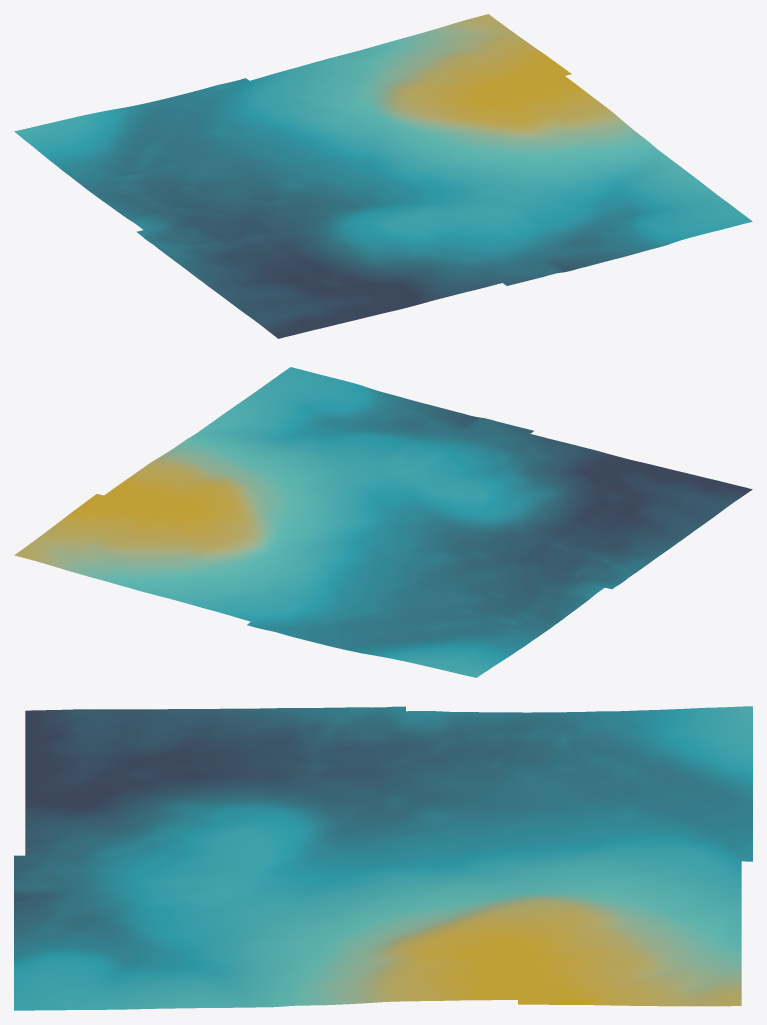
The model's file is terrain.glb.
The picture shows the model from 3 angles, top to bottom: view 1: azimuth 30°, elevation 25°; view 2: azimuth 150°, elevation 25°; view 3: azimuth 270°, elevation 25°; orthographic projection. The views are drawn at different scales.
Parts seen in each view (by area): view 1: terrain-chunk-0000; view 2: terrain-chunk-0000; view 3: terrain-chunk-0000.
Boxes of the visible parts, x1,y1,x2,y2 form: terrain-chunk-0000: (14,14,752,338); terrain-chunk-0000: (14,367,752,677); terrain-chunk-0000: (14,706,752,1010).
Bounding box in the file's own units: 2029 × 56.39 × 2029.
